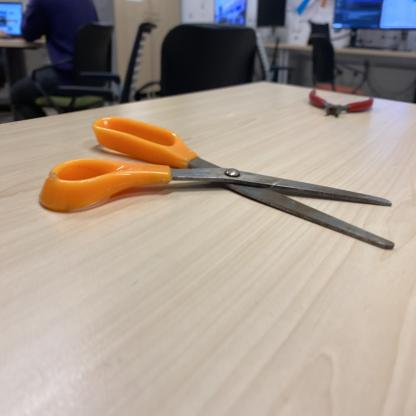scissors: (39, 116, 397, 252)
